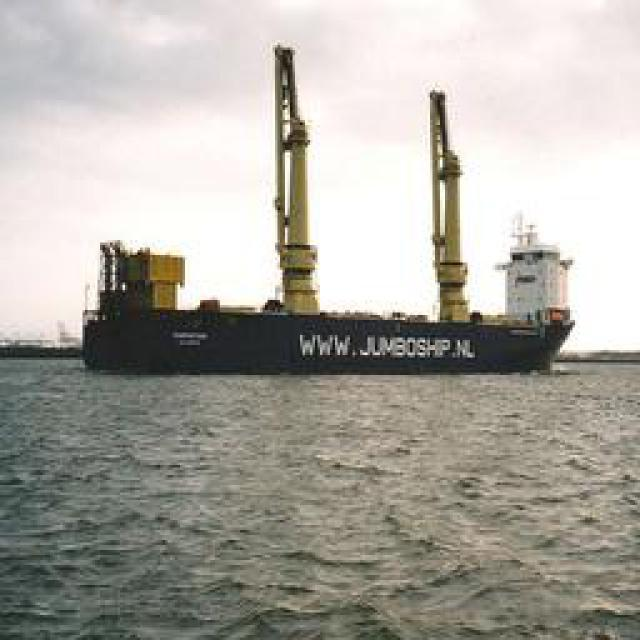Ship: (83, 45, 571, 375)
